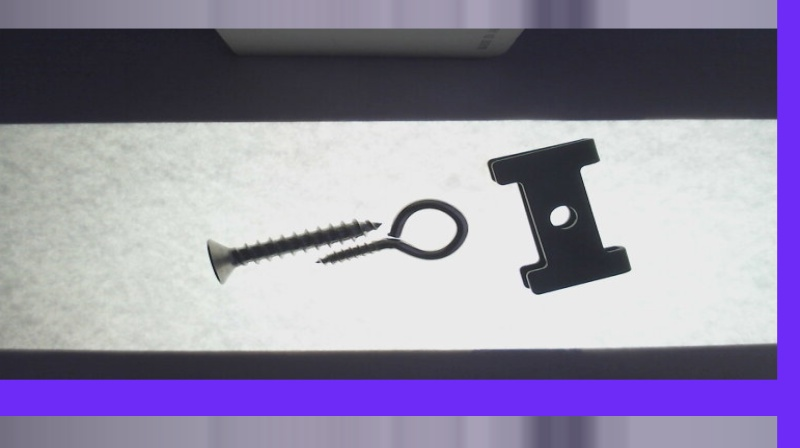O001: (311, 196, 469, 264)
O002: (486, 137, 632, 294)
S001: (204, 220, 383, 283)
